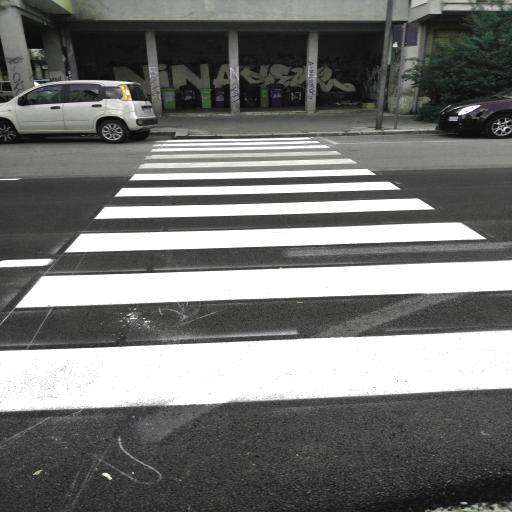crosswalk: (49, 194, 506, 256), (131, 149, 365, 171)
